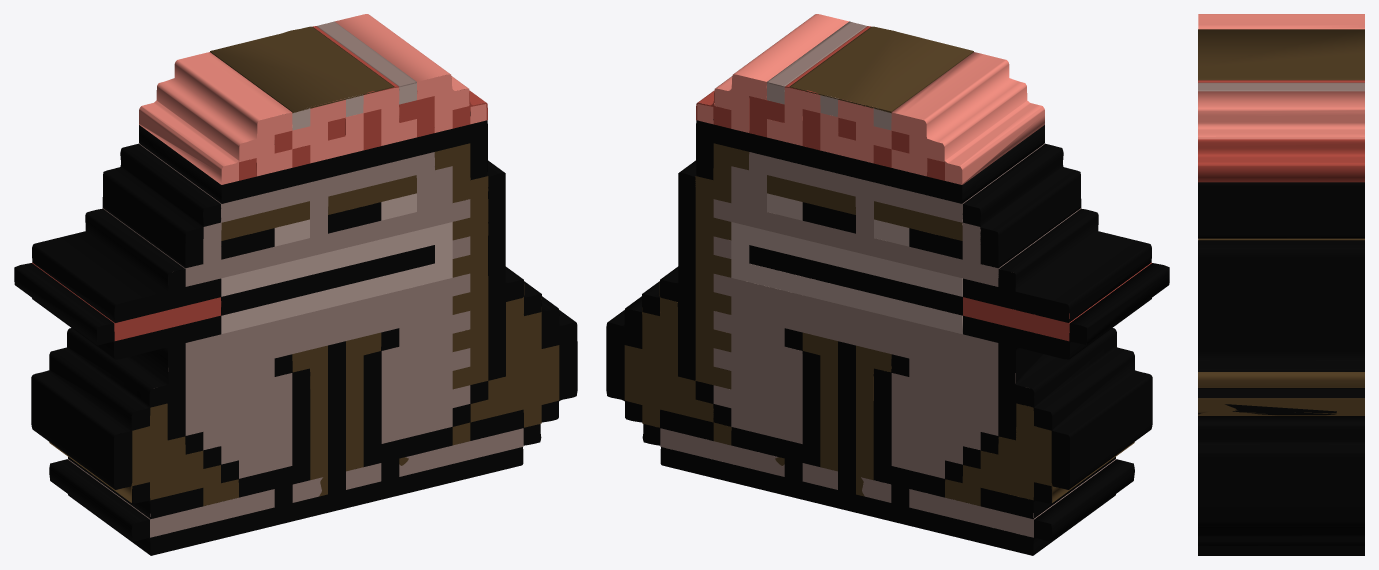
The model's file is Toadz_5777.glb.
The picture shows the model from 3 angles, left to right: view 1: azimuth 30°, elevation 25°; view 2: azimuth 150°, elevation 25°; view 3: azimuth 270°, elevation 25°; orthographic projection.
Visible parts, largest first — view 1: Curve; view 2: Curve; view 3: Curve.
Part boxes in pixels (<box>): Curve: <box>14,14,577,555</box>; Curve: <box>606,14,1169,555</box>; Curve: <box>1198,14,1364,555</box>.
Bounding box in the file's own units: 3.36 × 2.74 × 1.
